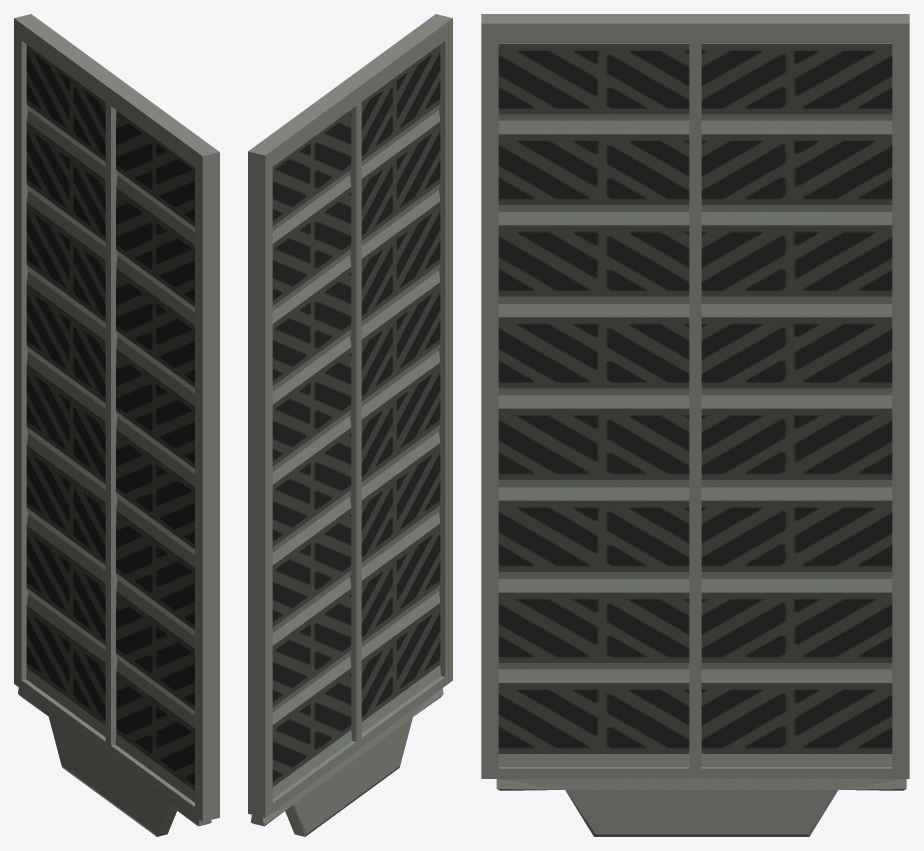
Rendered from Teller_Shutter.fbx.
3 views of the same model, side by side, from view 1: azimuth 30°, elevation 25°; view 2: azimuth 150°, elevation 25°; view 3: azimuth 270°, elevation 25° (orthographic). The views are drawn at different scales.
Parts seen in each view (by area): view 1: Teller_Shutter; view 2: Teller_Shutter; view 3: Teller_Shutter.
Part boxes in pixels (<box>): Teller_Shutter: <box>14,14,219,836</box>; Teller_Shutter: <box>248,14,452,836</box>; Teller_Shutter: <box>481,14,909,836</box>.
Bounding box in the file's own units: 0.0505 × 2.01 × 0.9559.
